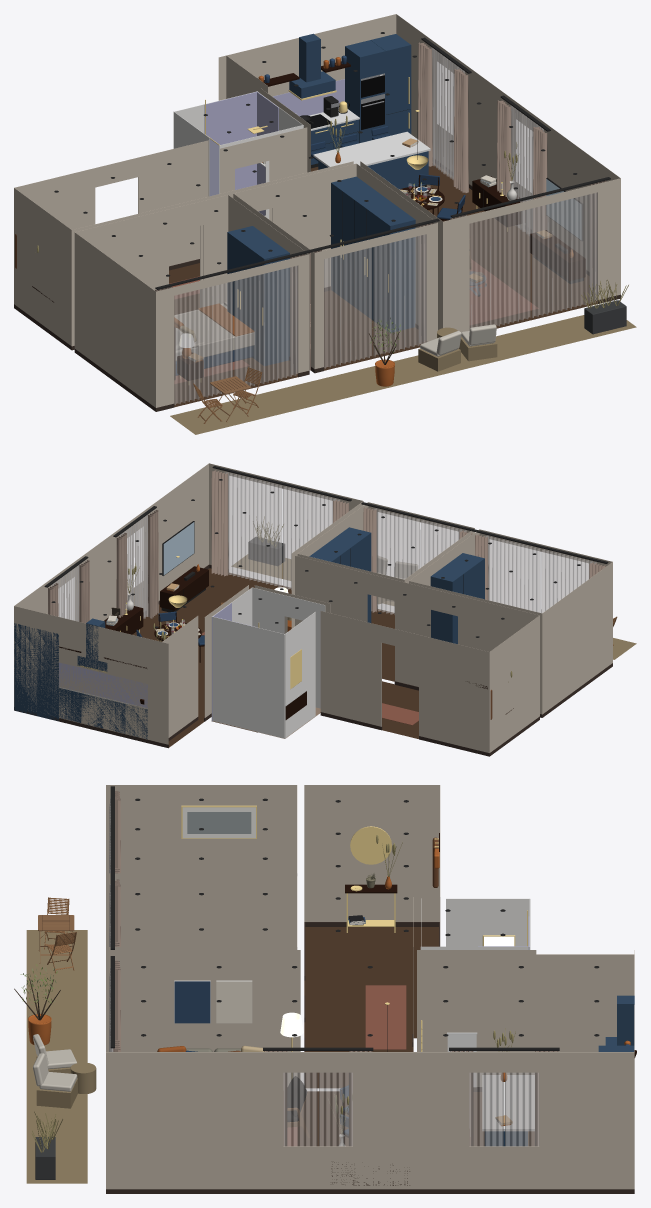
The model's file is unit-1.C-lisboa.glb.
3 views of the same model, one above another, from view 1: azimuth 30°, elevation 25°; view 2: azimuth 150°, elevation 25°; view 3: azimuth 270°, elevation 25° (orthographic). The views are drawn at different scales.
Parts seen in each view (by area): view 1: int-wall, int-sheer, int-joineryTall, int-floor, int-curtain, int-deck, int-showerWall, int-wood, int-joinery, int-matteBlack, int-rug, int-worktop (+14 smaller); view 2: int-wall, int-sheer, int-bathWall, int-joineryTall, int-curtain, int-floor, int-joinery, int-wood, int-splash, int-skirting, int-matteBlack, int-hallFloor (+6 smaller); view 3: int-wall, int-hallFloor, int-deck, int-sheer, int-bathWall, int-skirting, int-rug, int-worktop, int-floor, int-curtain, int-metal, int-matteBlack (+15 smaller).
Boxes of the visible parts, <box> form: int-wall: <box>14,14,620,407</box>; int-sheer: <box>174,47,597,404</box>; int-joineryTall: <box>227,34,415,365</box>; int-floor: <box>174,163,597,407</box>; int-curtain: <box>155,42,606,374</box>; int-deck: <box>170,315,636,434</box>; int-showerWall: <box>204,91,278,215</box>; int-wood: <box>32,61,585,380</box>; int-joinery: <box>289,33,428,189</box>; int-matteBlack: <box>155,37,610,289</box>; int-rug: <box>169,259,538,383</box>; int-worktop: <box>259,108,430,167</box>; int-wall: <box>14,463,612,752</box>; int-sheer: <box>51,472,596,621</box>; int-bathWall: <box>211,587,325,738</box>; int-joineryTall: <box>14,527,484,721</box>; int-curtain: <box>48,470,605,623</box>; int-floor: <box>132,568,394,747</box>; int-joinery: <box>59,618,147,739</box>; int-wood: <box>59,566,513,719</box>; int-splash: <box>59,662,147,708</box>; int-skirting: <box>14,564,612,756</box>; int-matteBlack: <box>44,466,608,740</box>; int-hallFloor: <box>382,681,418,738</box>; int-wall: <box>106,785,634,1189</box>; int-hallFloor: <box>304,927,438,1088</box>; int-deck: <box>26,930,87,1183</box>; int-sheer: <box>109,798,539,1146</box>; int-bathWall: <box>420,898,530,949</box>; int-skirting: <box>106,922,634,1193</box>; int-rug: <box>287,985,406,1145</box>; int-worktop: <box>447,1032,534,1131</box>; int-floor: <box>298,1091,534,1146</box>; int-curtain: <box>113,790,558,1146</box>; int-metal: <box>181,805,527,1079</box>; int-matteBlack: <box>110,786,559,1050</box>.
Bounding box in the file's own units: 10.9 × 2.8 × 10.71.
